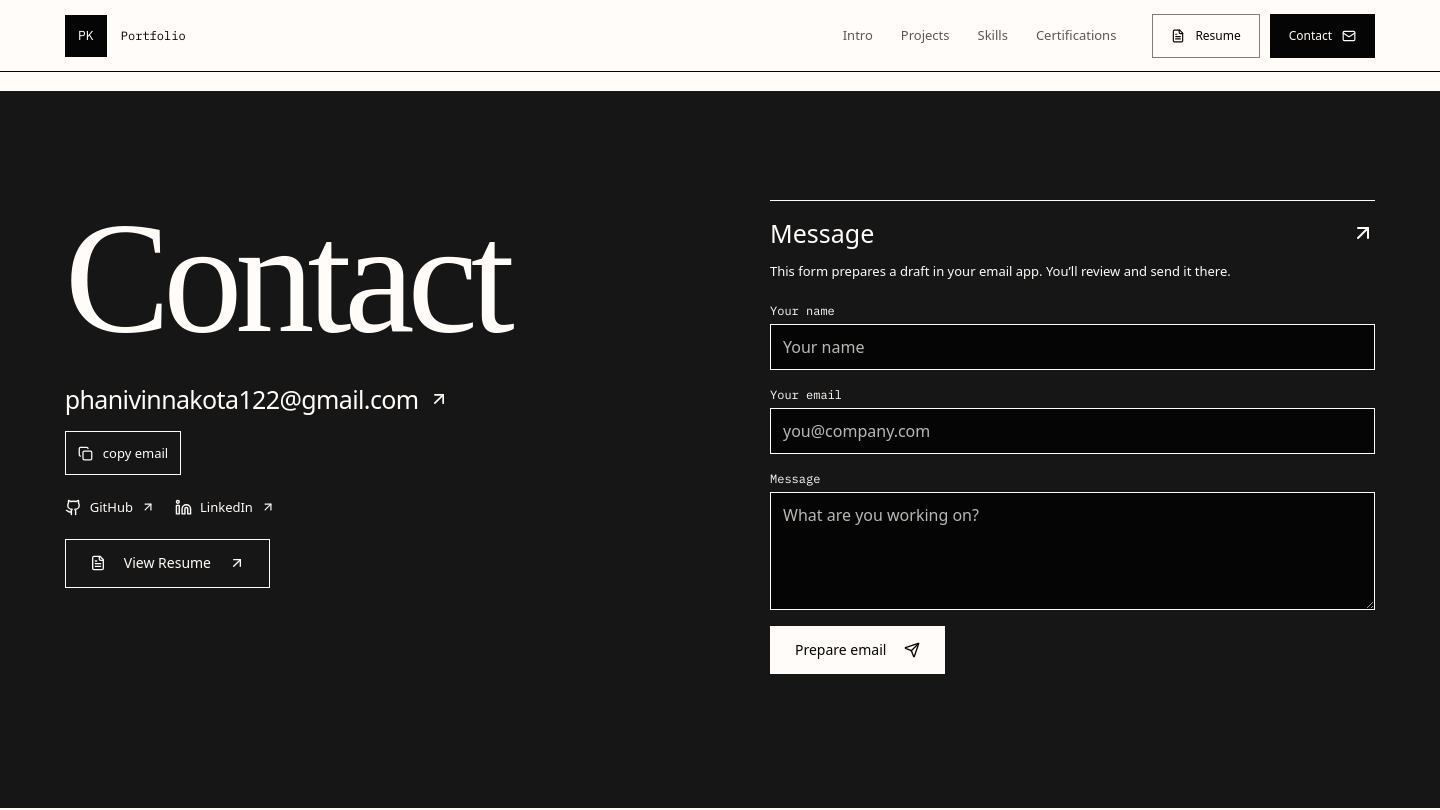
Scenario: portfolio experience › copies the contact email and reports visible feedback
(page scrolled)
What coordinates should you click on to do the following:
click the button "copy email"
I would click on:
 (123, 453)
Its box is [65, 431, 181, 475].
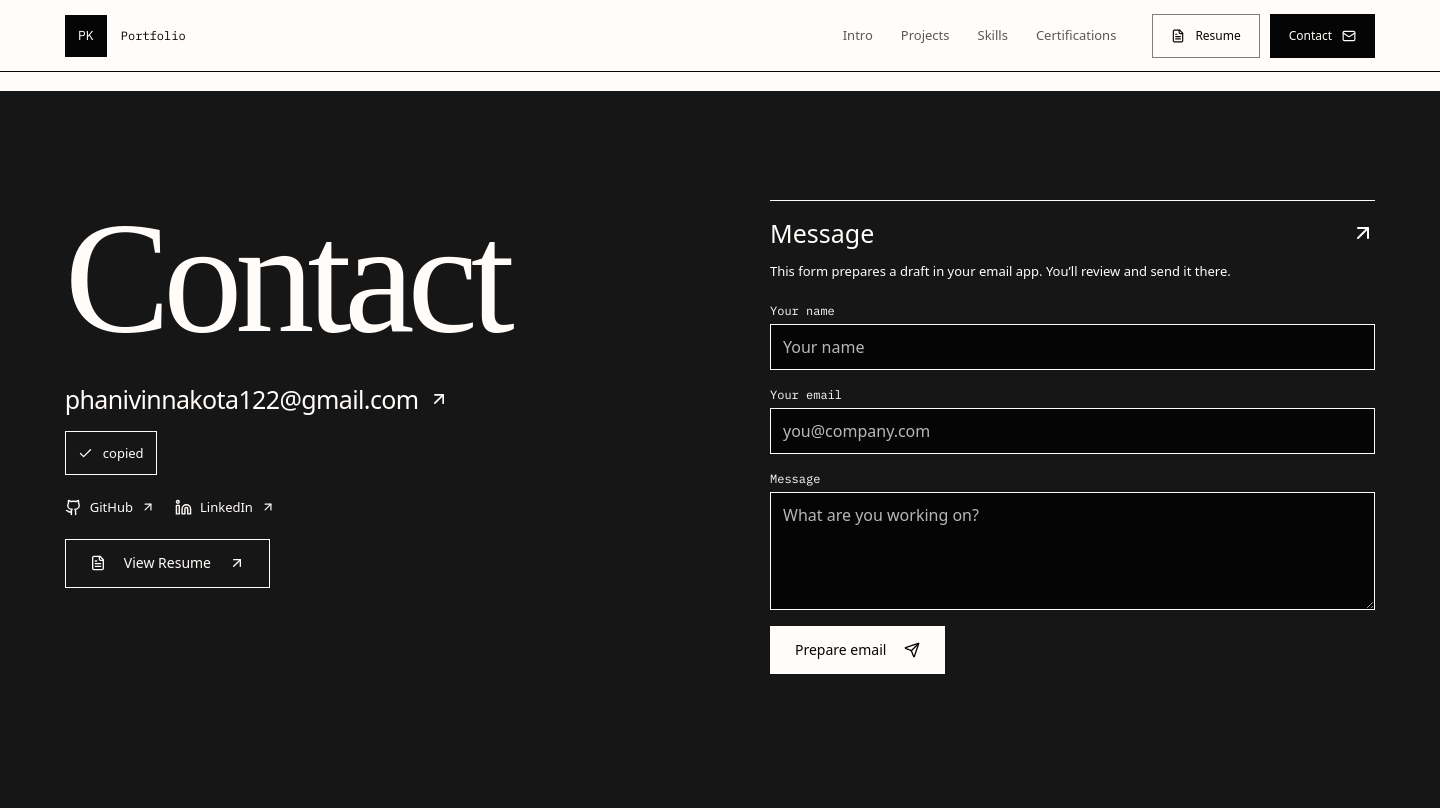
Result: the button "copied" is shown at [65, 431, 157, 475]
